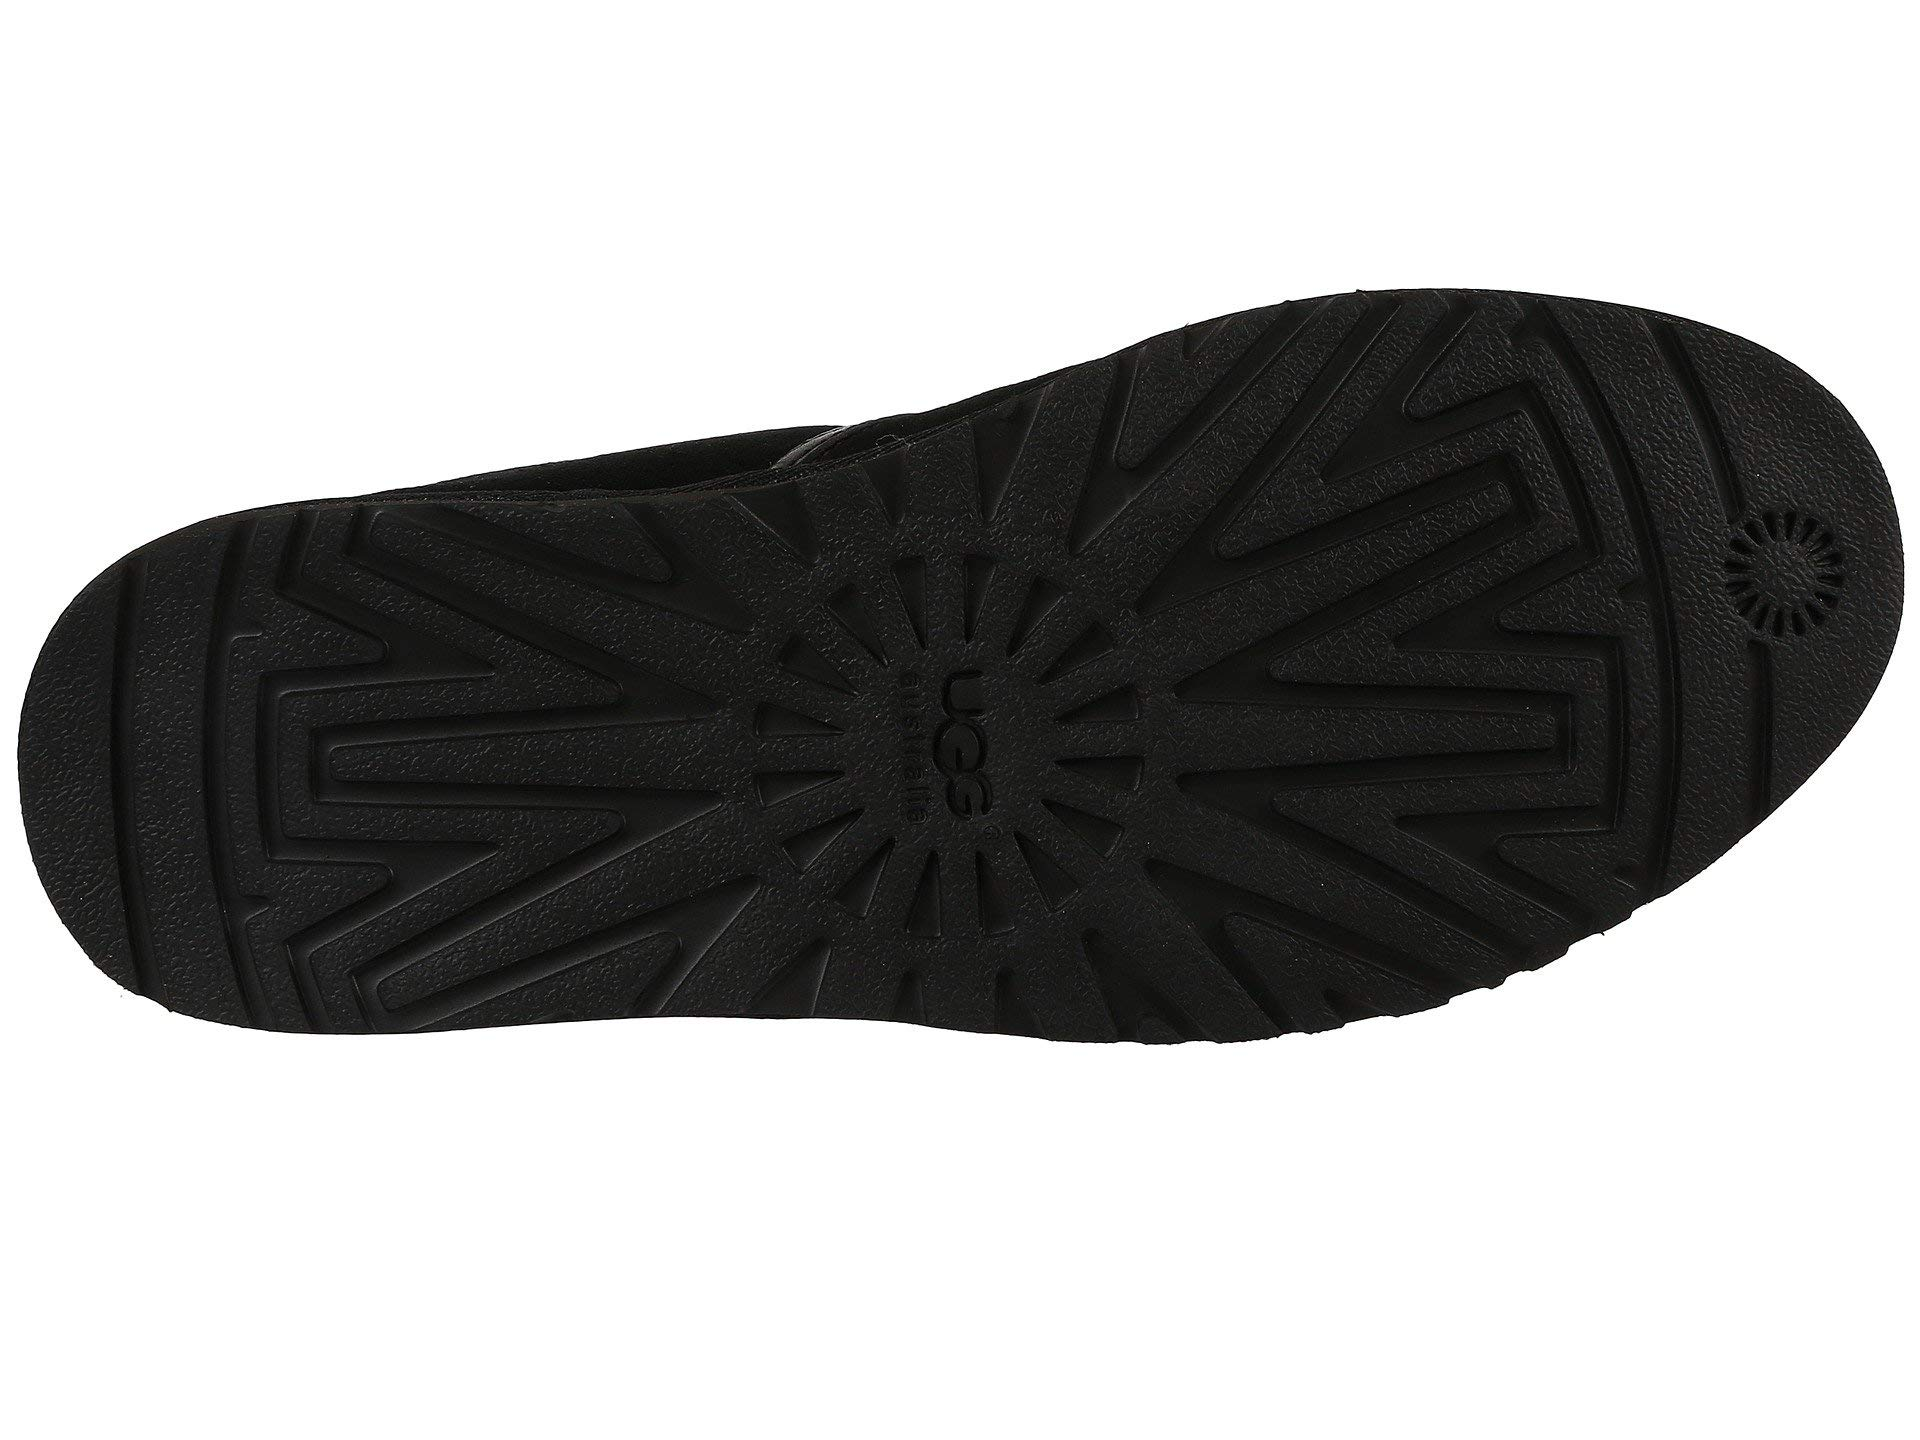chevron: (1200, 328, 1633, 953), (148, 554, 705, 950)
circle: (724, 511, 1157, 948), (1708, 467, 1870, 672)
line: (1200, 328, 1633, 953), (148, 554, 705, 950), (1708, 467, 1870, 672)
text: (724, 511, 1157, 948)
triangle: (724, 511, 1157, 948), (1708, 467, 1870, 672)
